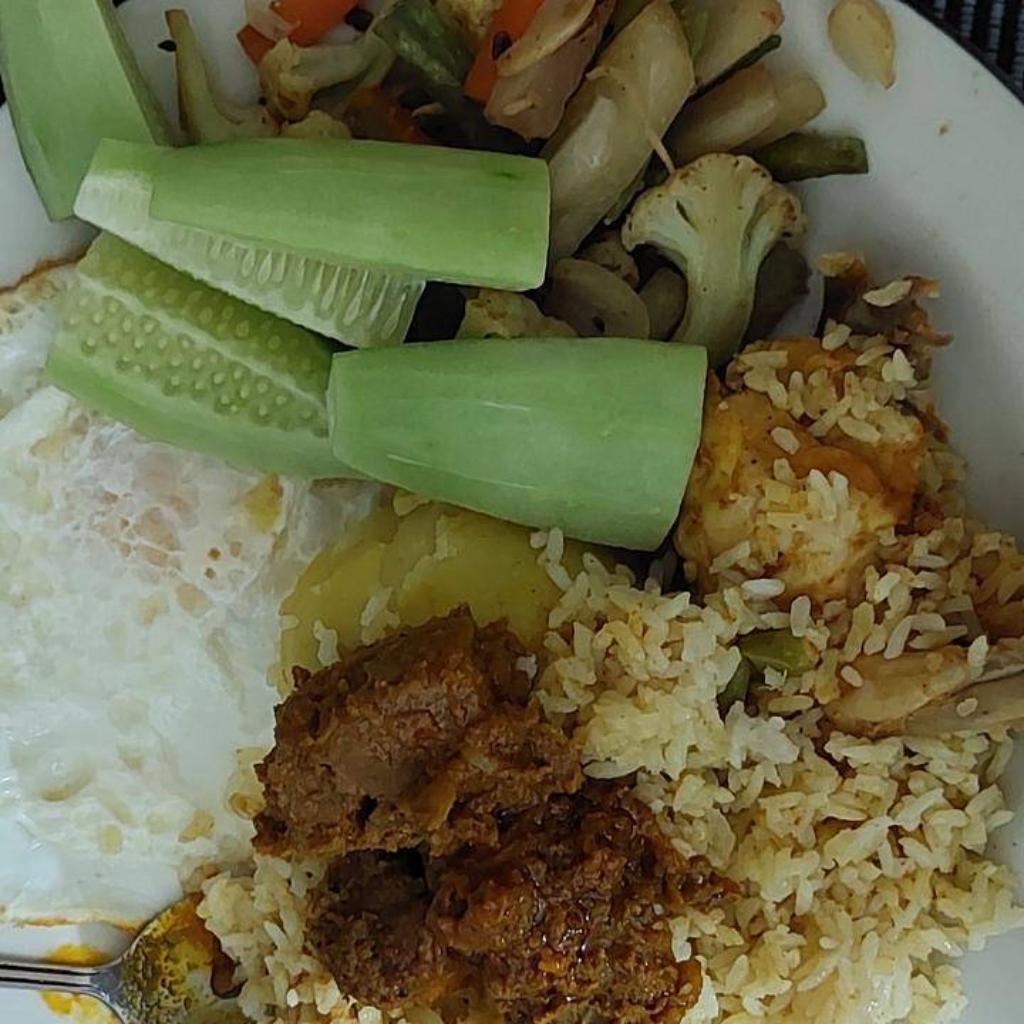beef: (247, 611, 739, 1023)
biriyani: (553, 275, 1023, 1023)
cucumber: (2, 0, 704, 548)
egg-poached: (0, 267, 383, 959)
vegetable: (162, 0, 876, 337)
